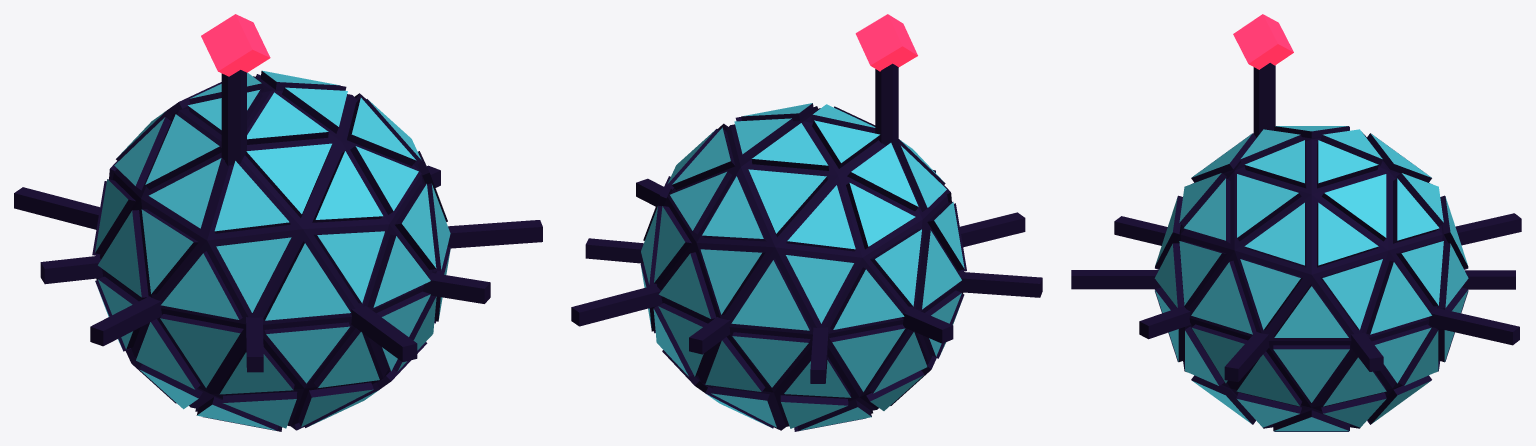
File: DJMinion.fbx
The picture shows the model from 3 angles, left to right: view 1: azimuth 30°, elevation 25°; view 2: azimuth 150°, elevation 25°; view 3: azimuth 270°, elevation 25°; orthographic projection. The views are drawn at different scales.
Visible parts, largest first — view 1: Landmine Enemy; view 2: Landmine Enemy; view 3: Landmine Enemy.
Boxes of the visible parts, x1,y1,x2,y2 form: Landmine Enemy: [14, 14, 542, 431]; Landmine Enemy: [571, 14, 1042, 431]; Landmine Enemy: [1071, 14, 1521, 431].
Size of the model in its own units: 582 by 545 by 584.
